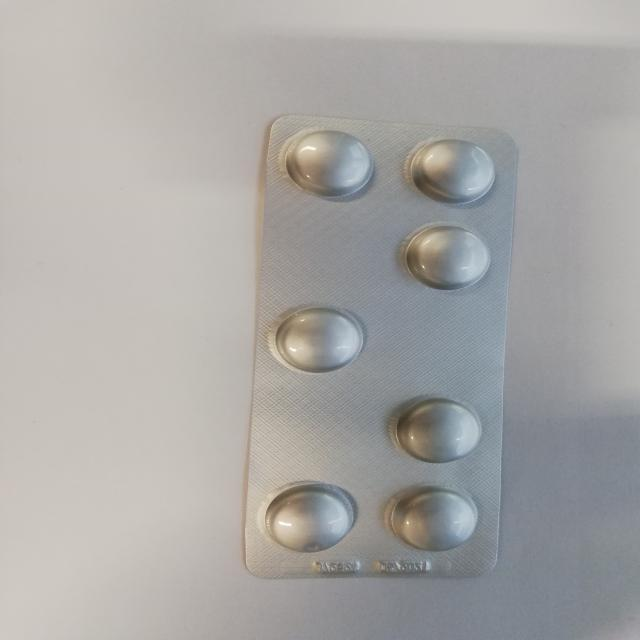Pill: (252, 481, 368, 558), (383, 393, 498, 468), (268, 301, 379, 378), (396, 215, 493, 299), (402, 131, 502, 207), (391, 485, 481, 557), (285, 132, 376, 201)
